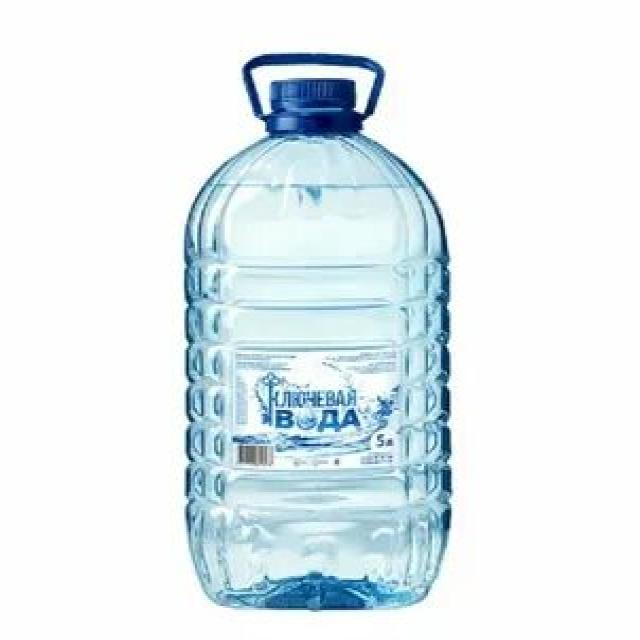blue: (187, 130, 449, 610)
